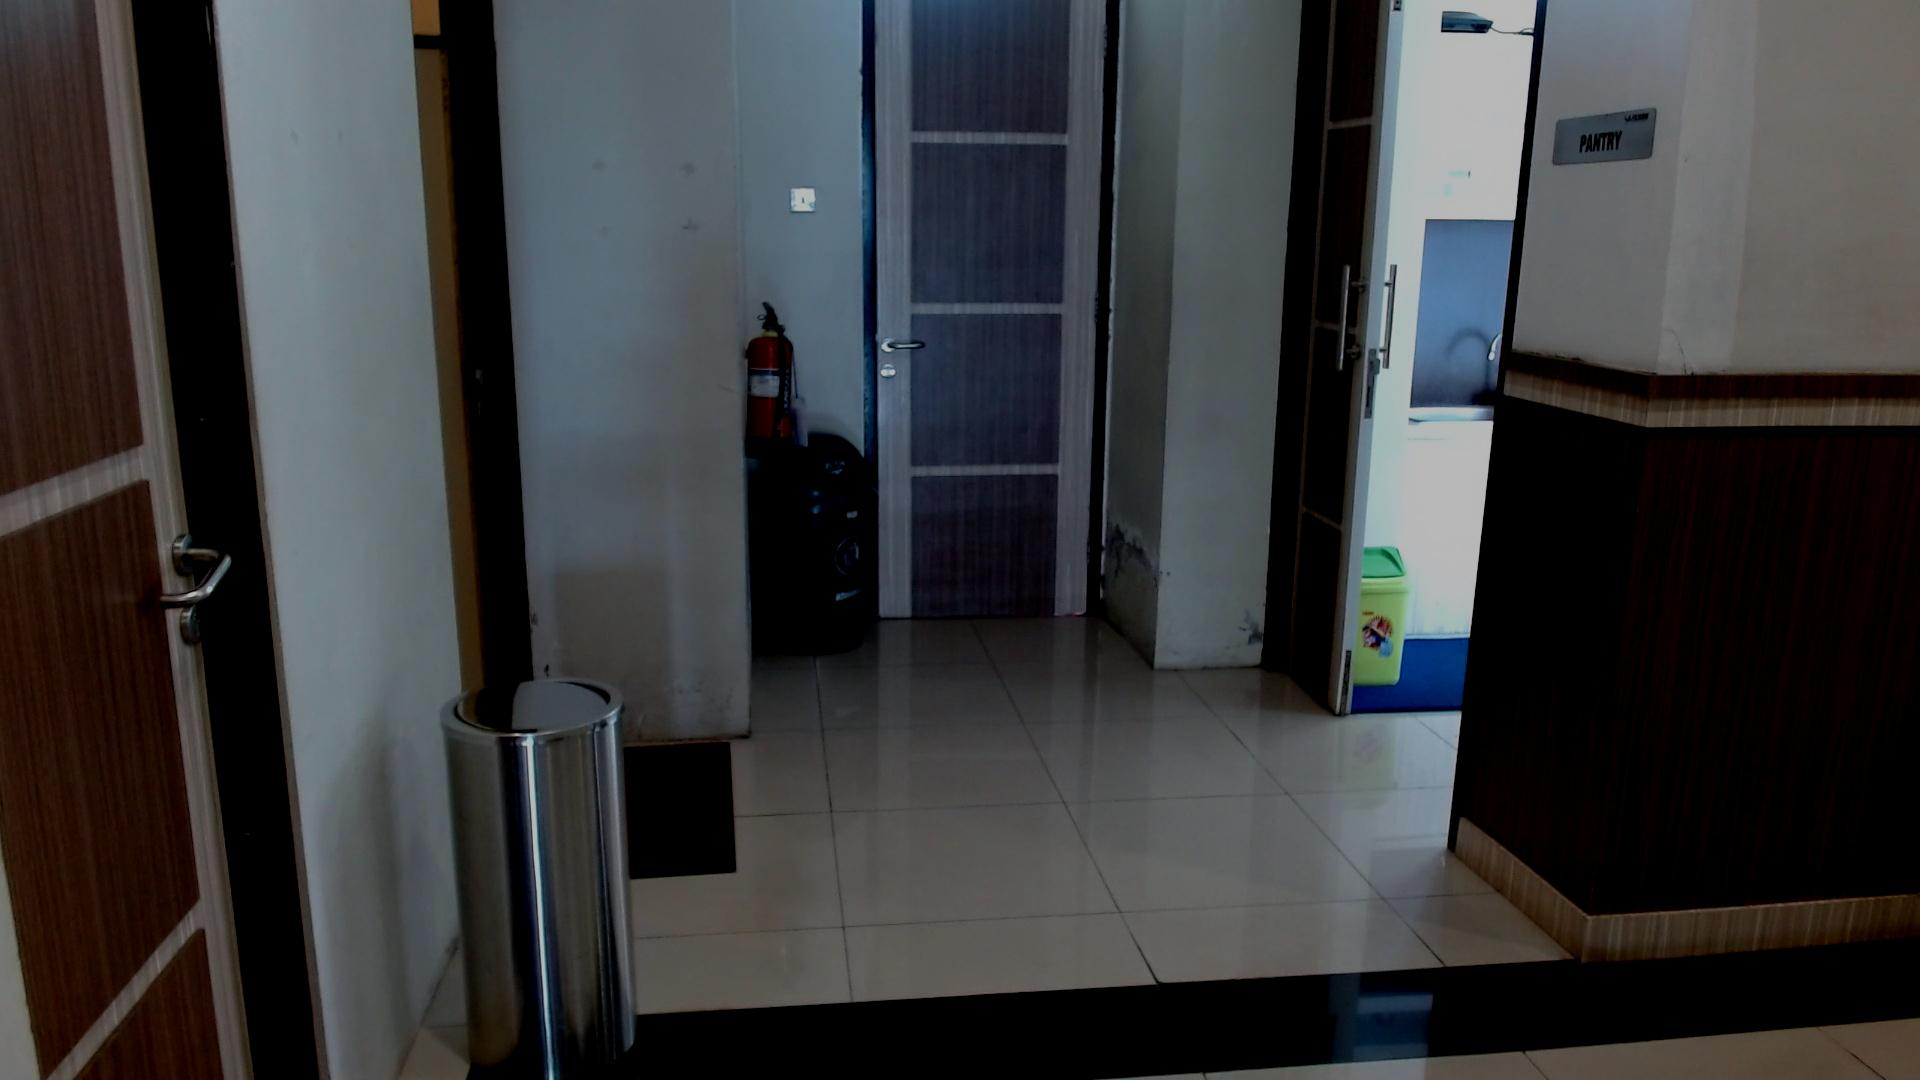plate: (1552, 108, 1656, 166)
